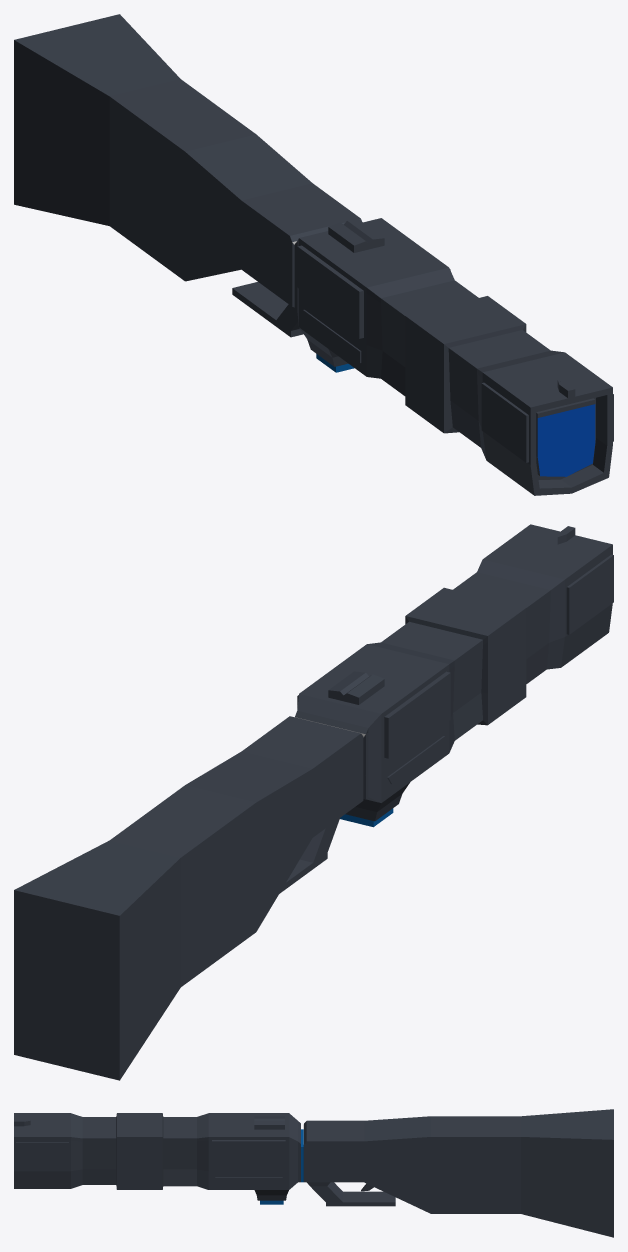
File: firstweapon.fbx
3 renders of one model, top to bottom at view 1: azimuth 30°, elevation 25°; view 2: azimuth 150°, elevation 25°; view 3: azimuth 270°, elevation 25°, orthographic. The views are drawn at different scales.
Parts seen in each view (by area): view 1: Cube; view 2: Cube; view 3: Cube.
Part boxes in pixels (x1,y1,x2,y2): Cube: [14, 14, 613, 495]; Cube: [14, 524, 613, 1080]; Cube: [14, 1109, 613, 1237].
Bounding box in the file's own units: 12.11 × 18.9 × 100.
